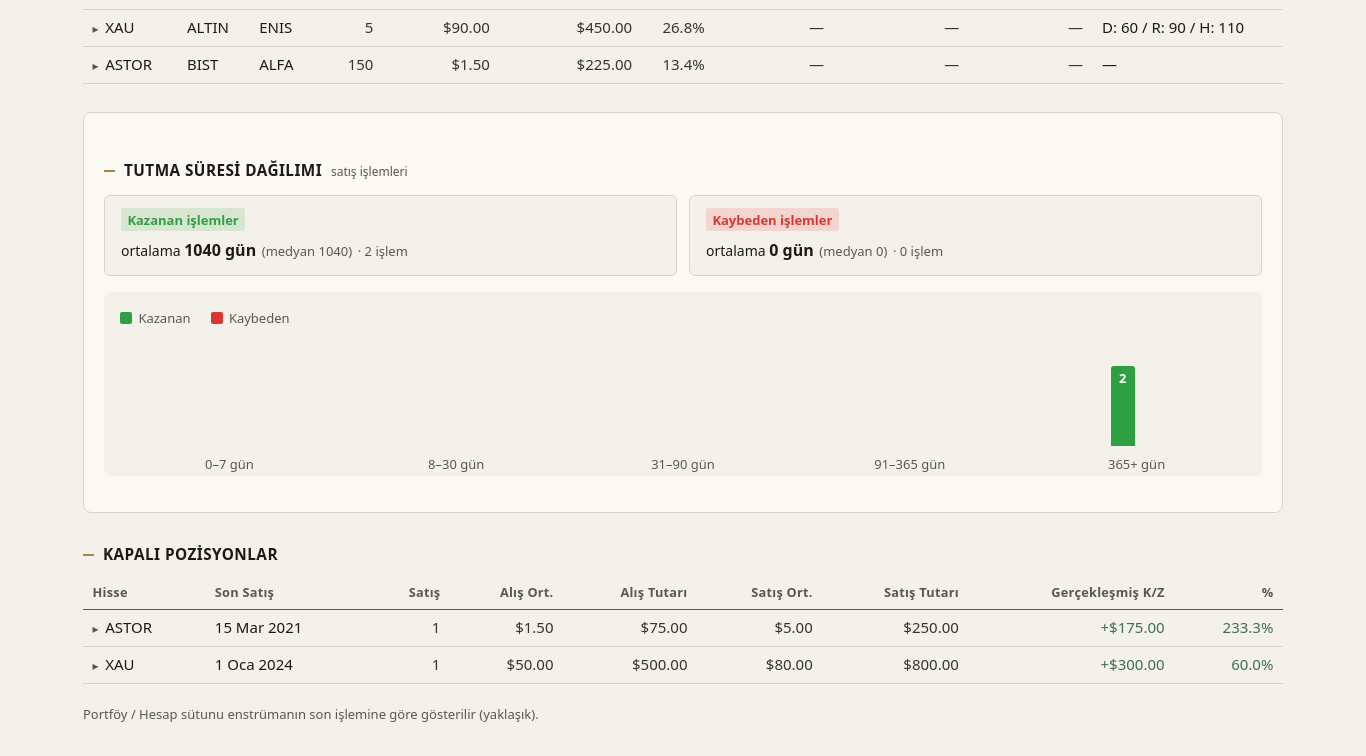
Test: Pozisyonlar › expanding a closed position shows Satışlar table, KAPANDI badge, and matching realized K/Z
(page scrolled)
Click the text "XAU".
click(683, 665)  # box [83,647,1283,684]
(page scrolled)
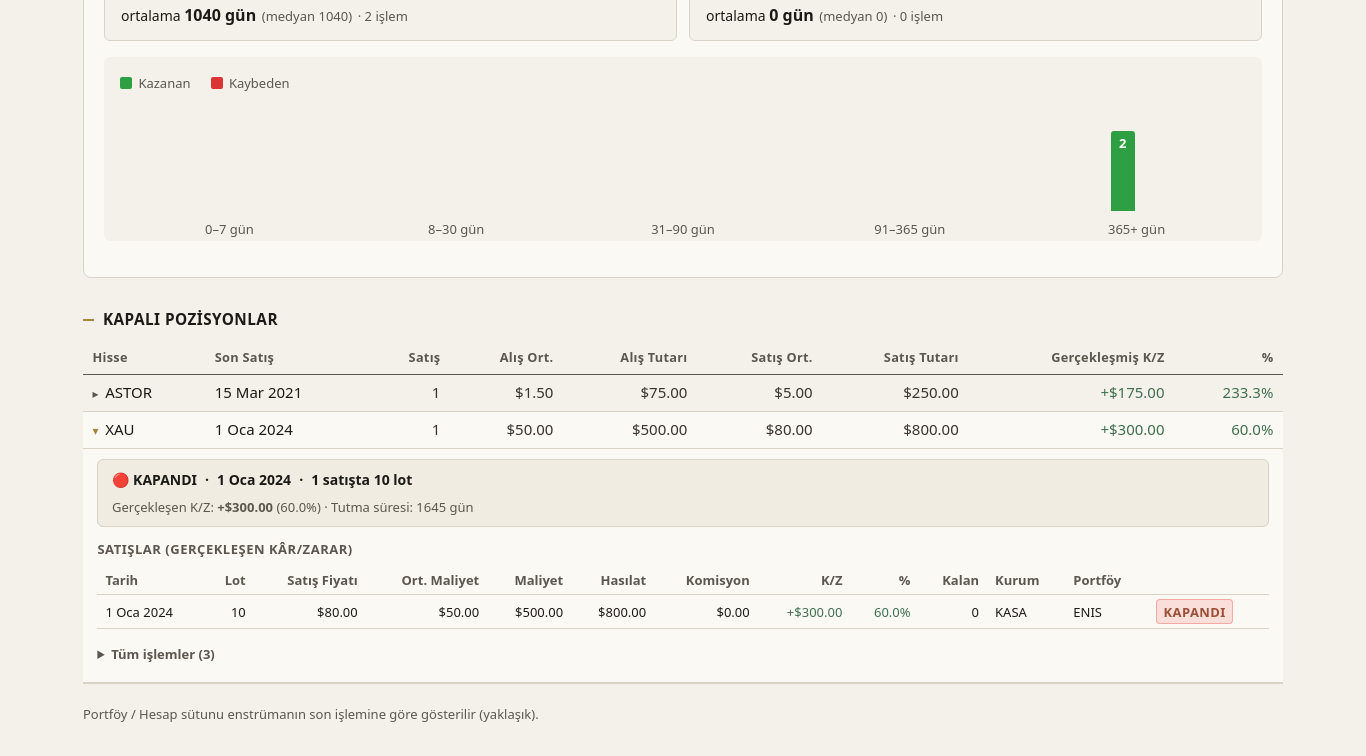
Result: the element with test id "closed-table" shows "Satışlar (gerçekleşen kâr/zarar)" at [97,540,353,558]
Result: the element with test id "closed-table" shows "KAPANDI" at [1164,603,1226,621]
Result: the element with test id "closed-table" shows "Tutma süresi" at [331,498,474,516]
